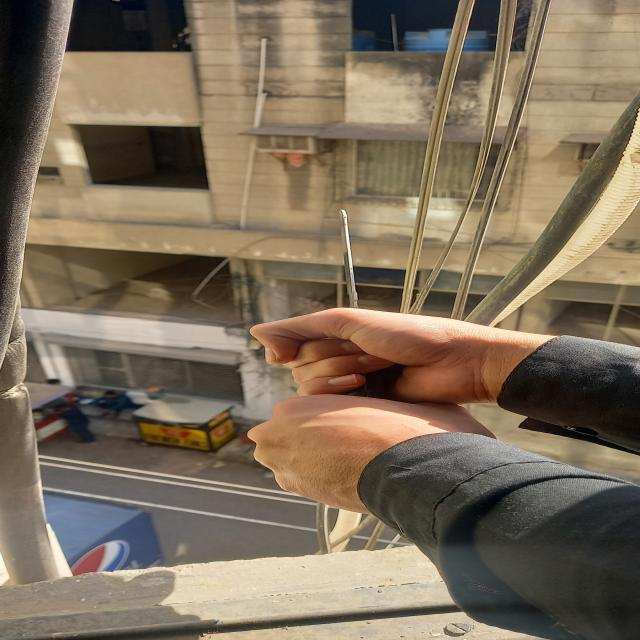knife: (330, 195, 366, 309)
